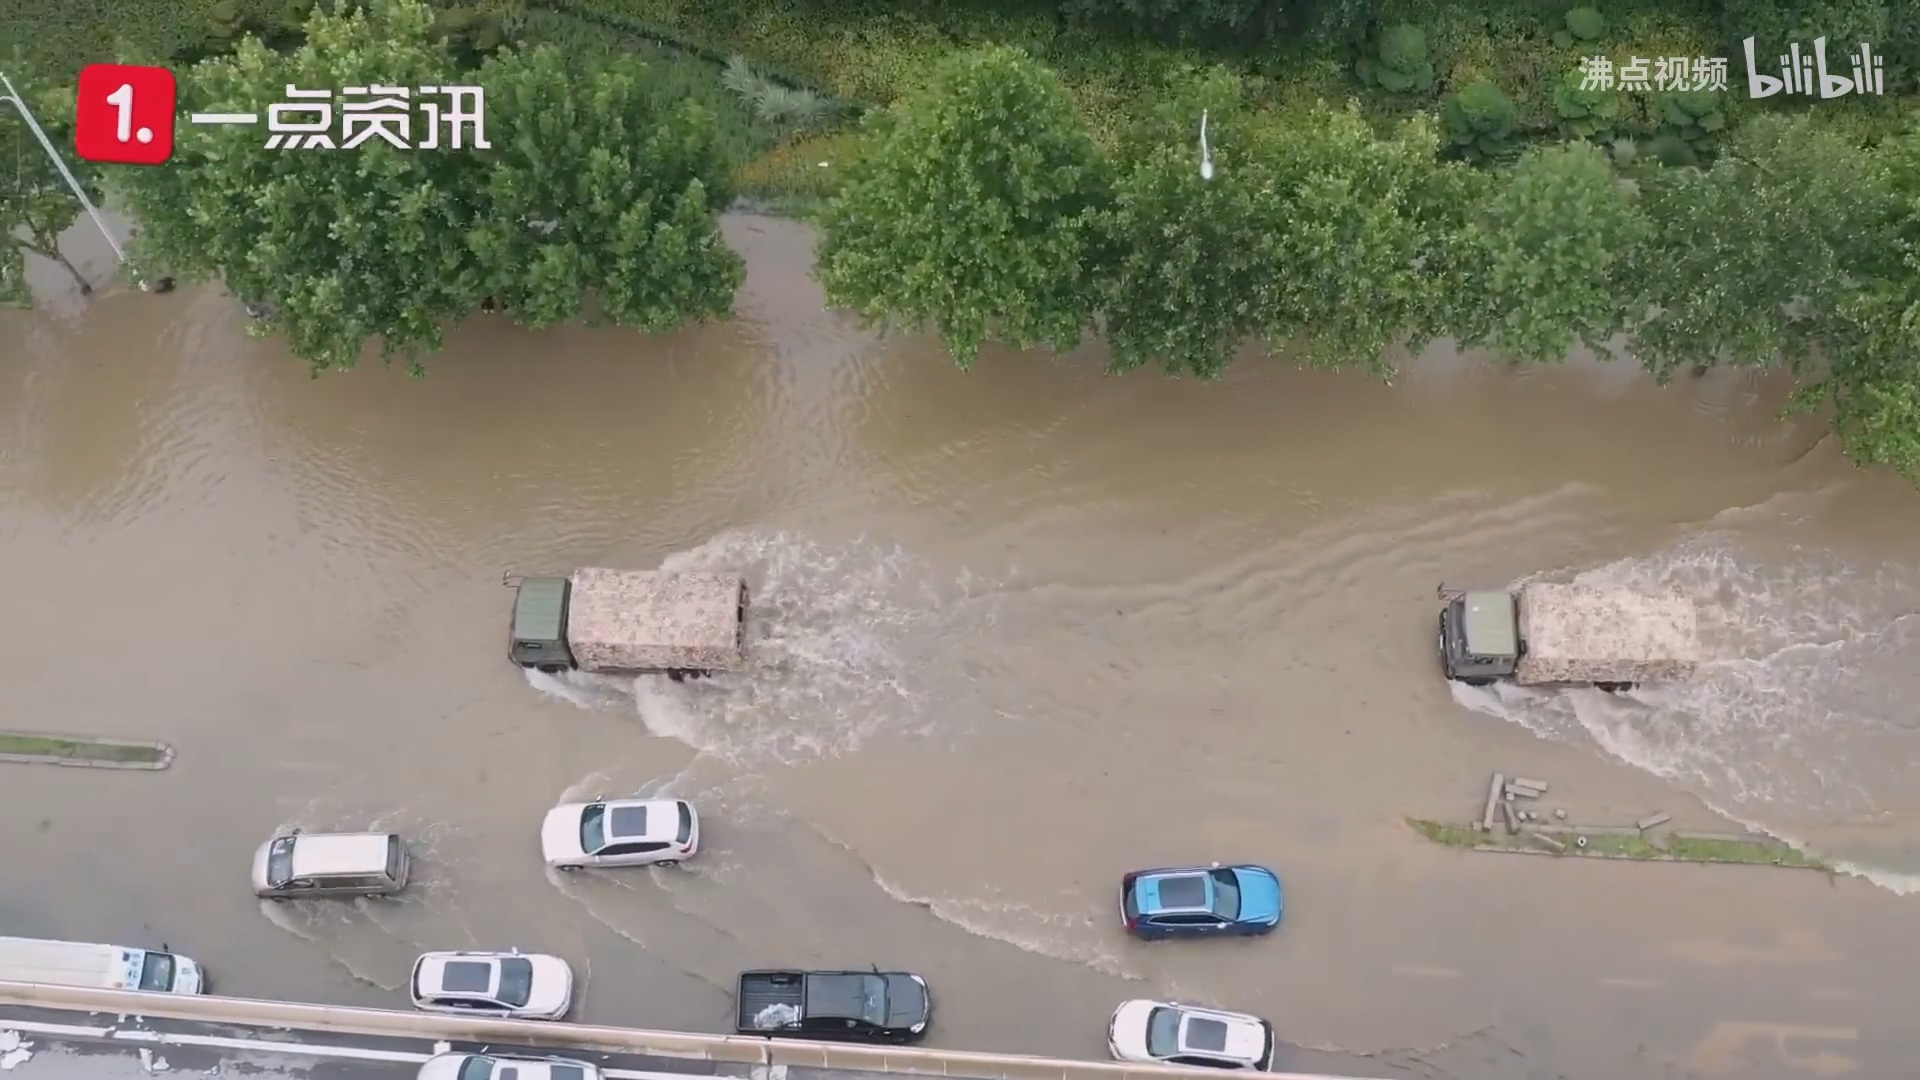puddle: (21, 297, 1920, 1080)
